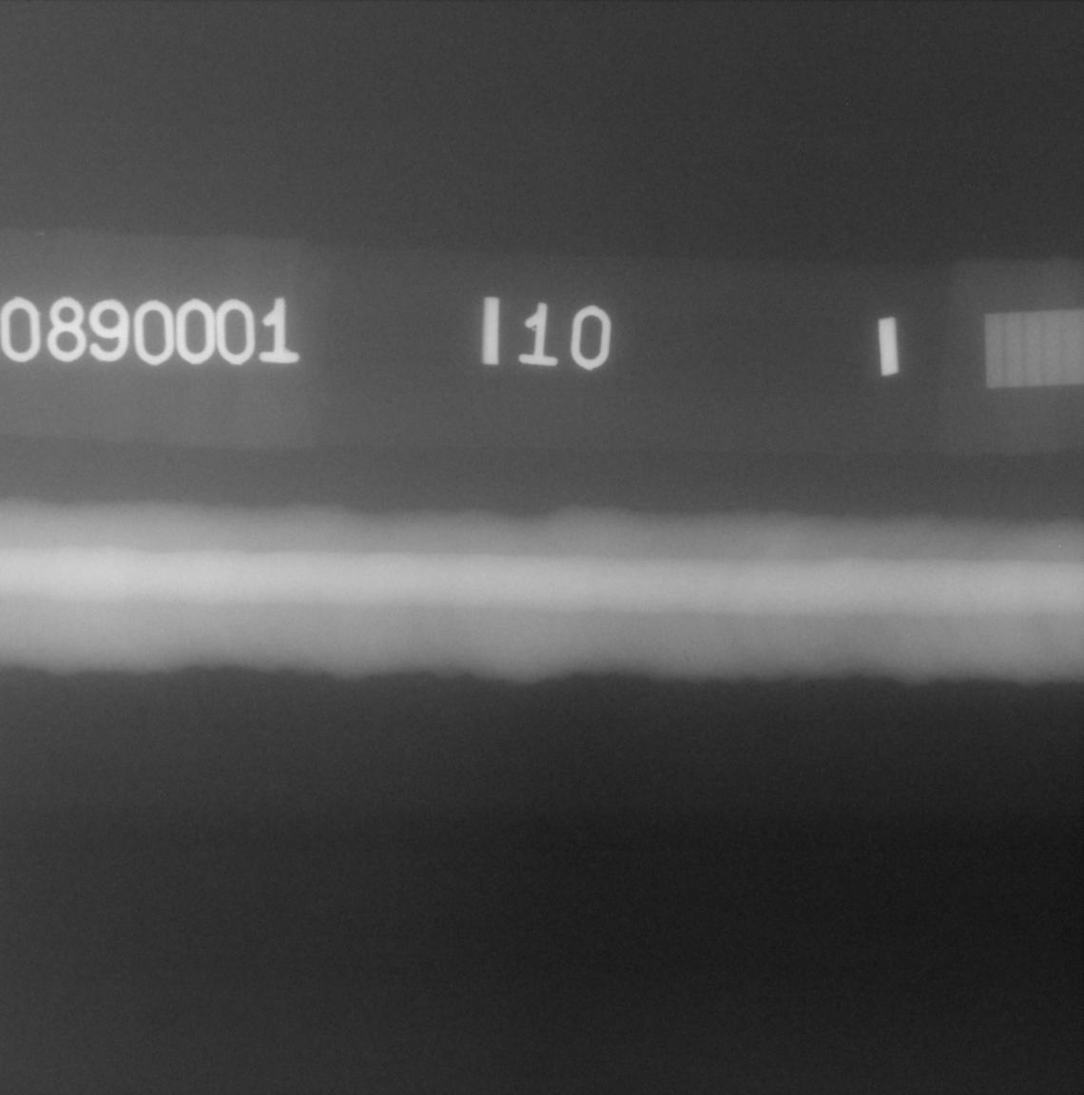Inclusion: (683, 649, 690, 663)
